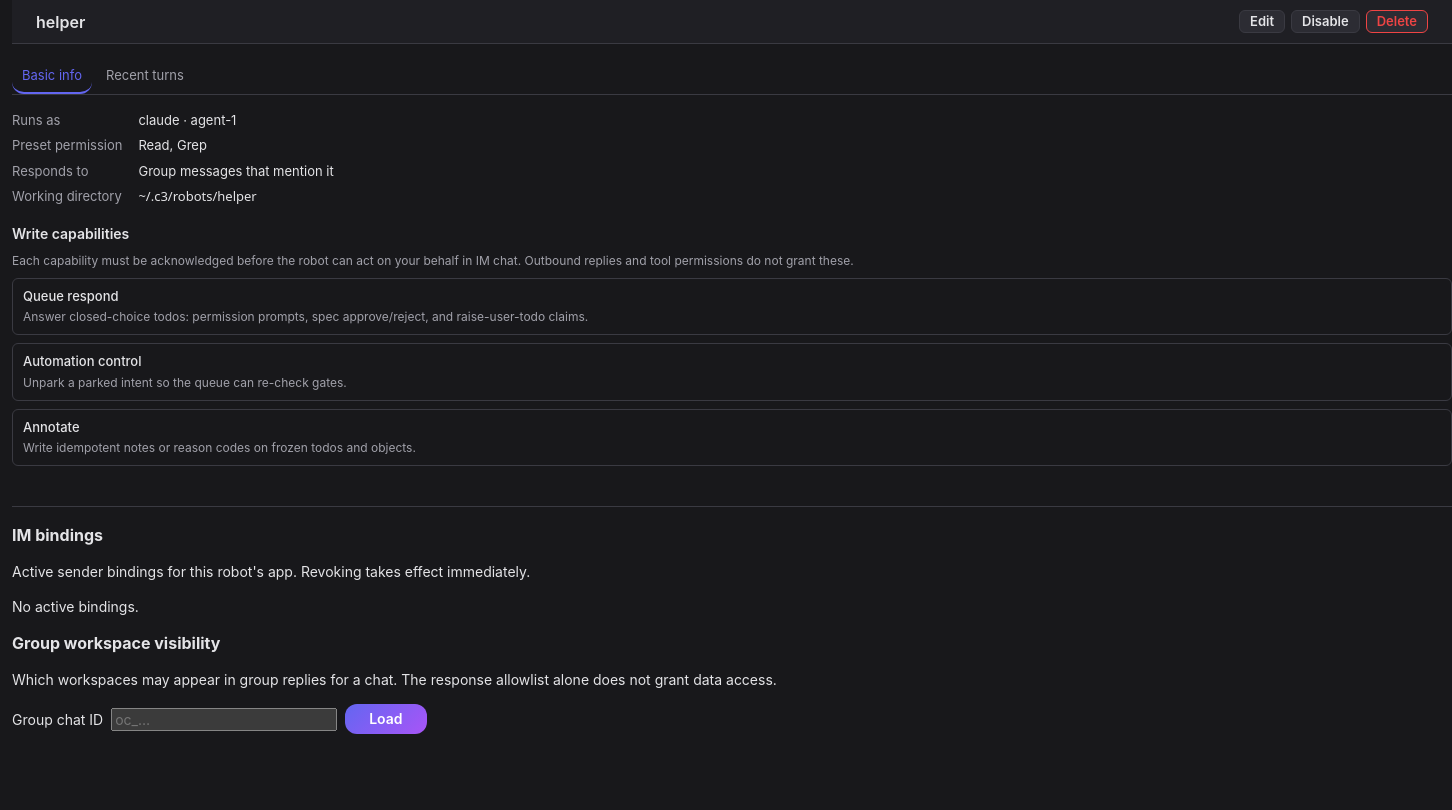
Test: RobotDetail tabs › shows the existing empty state in Recent turns
Click the tab with test id "robot-detail-tab-recent".
click(145, 77)  # box left=96, top=60, right=194, bottom=94
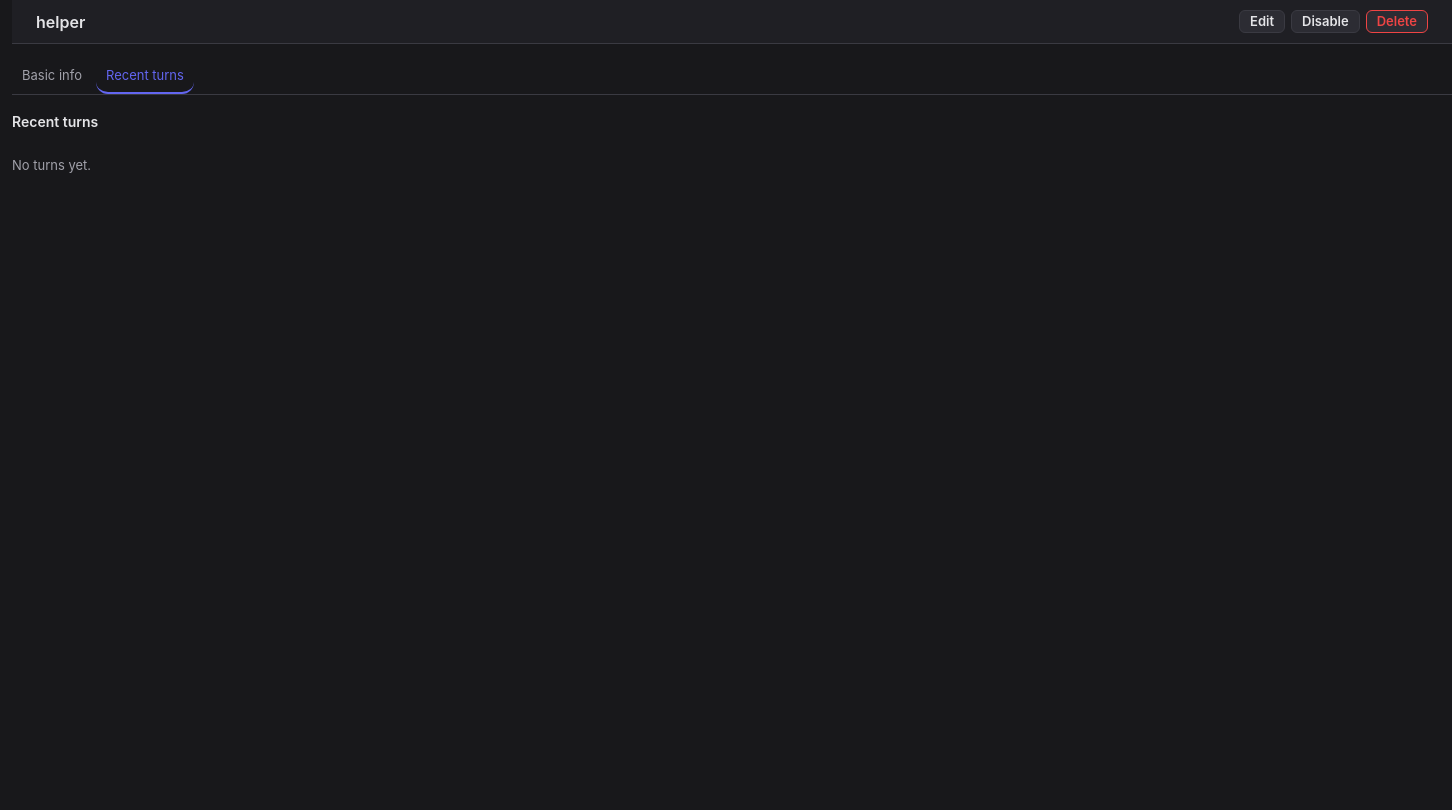
Now the panel with test id "robot-detail-panel-recent" shows "No turns yet.", box left=12, top=156, right=91, bottom=172
